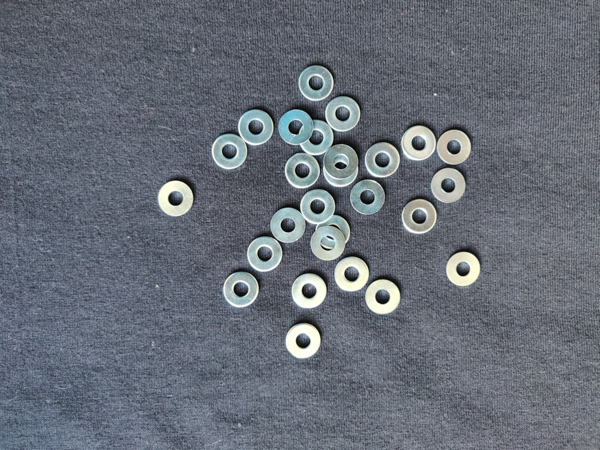circle: (363, 140, 403, 181), (291, 271, 332, 311), (294, 64, 337, 102), (444, 249, 484, 289), (296, 118, 335, 158), (364, 278, 403, 318), (270, 206, 308, 246), (158, 177, 195, 218), (400, 123, 439, 161), (210, 133, 249, 171), (222, 271, 261, 309), (350, 177, 388, 216), (430, 168, 469, 206), (323, 94, 363, 131), (283, 324, 322, 361), (401, 199, 437, 238), (247, 236, 284, 273), (300, 189, 338, 225), (324, 149, 359, 188), (437, 129, 473, 166), (284, 153, 321, 189), (238, 110, 274, 147), (334, 258, 371, 294), (323, 145, 359, 180), (315, 214, 350, 250), (280, 110, 313, 145), (310, 228, 346, 260)
